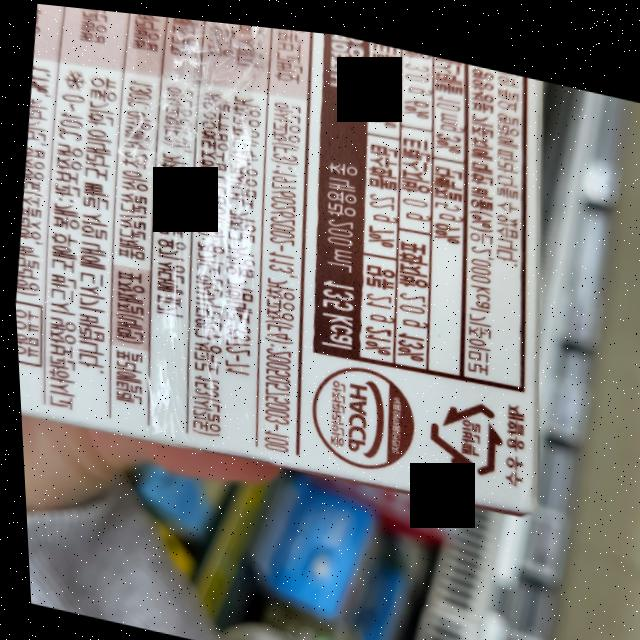NormalPack: (410, 370, 504, 471)
